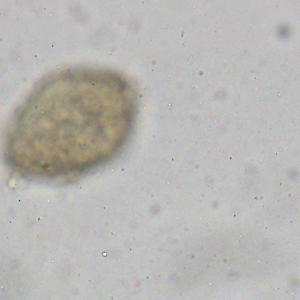Fasciola_hepatica_egg: (4, 63, 135, 181)
